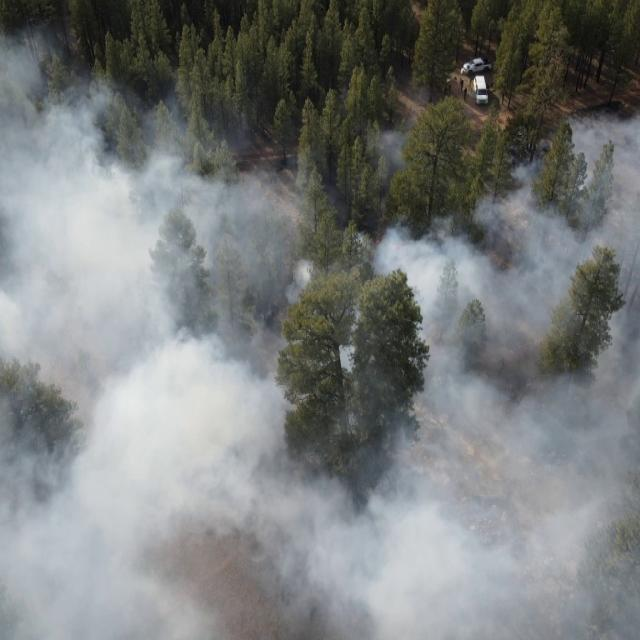smoke: (0, 119, 640, 640), (70, 73, 219, 119), (0, 26, 70, 118)
